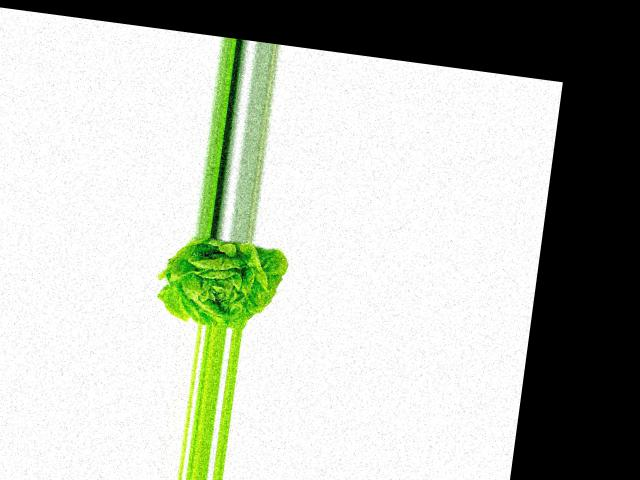lettuce: (157, 231, 292, 335)
